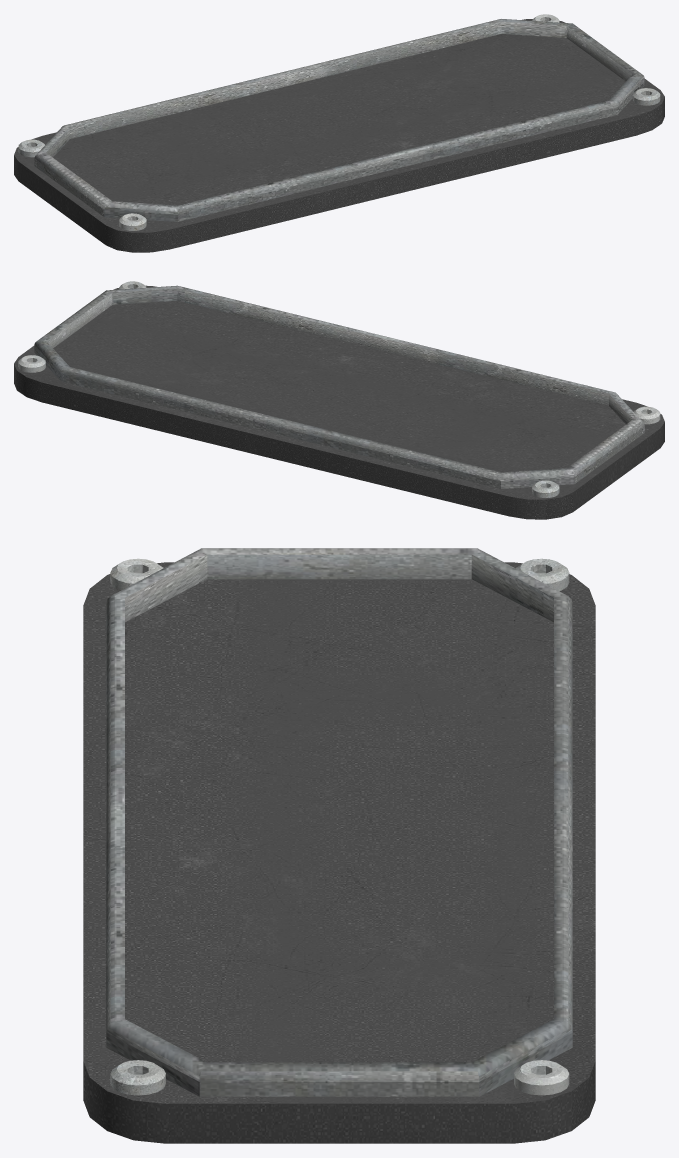
File: F_Console_Panel_01.fbx
3 views of the same model, one above another, from view 1: azimuth 30°, elevation 25°; view 2: azimuth 150°, elevation 25°; view 3: azimuth 270°, elevation 25° (orthographic). The views are drawn at different scales.
Visible parts, largest first — view 1: F_Console_Panel_01; view 2: F_Console_Panel_01; view 3: F_Console_Panel_01.
Boxes of the visible parts, x1=… form: F_Console_Panel_01: x1=14, y1=14, x2=664, y2=252; F_Console_Panel_01: x1=14, y1=281, x2=664, y2=519; F_Console_Panel_01: x1=83, y1=548, x2=595, y2=1143.
Size of the model in its own units: 150 by 8.33 by 60.
Materials: 1 (1 with a texture image).
